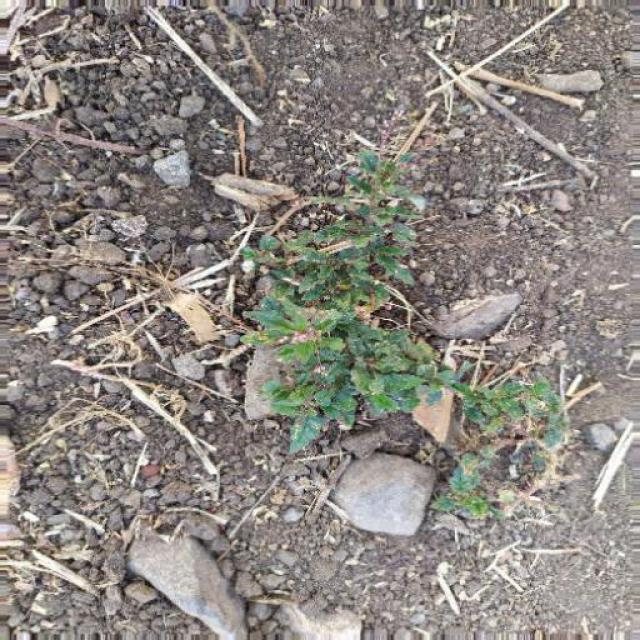weed: (217, 149, 562, 489)
